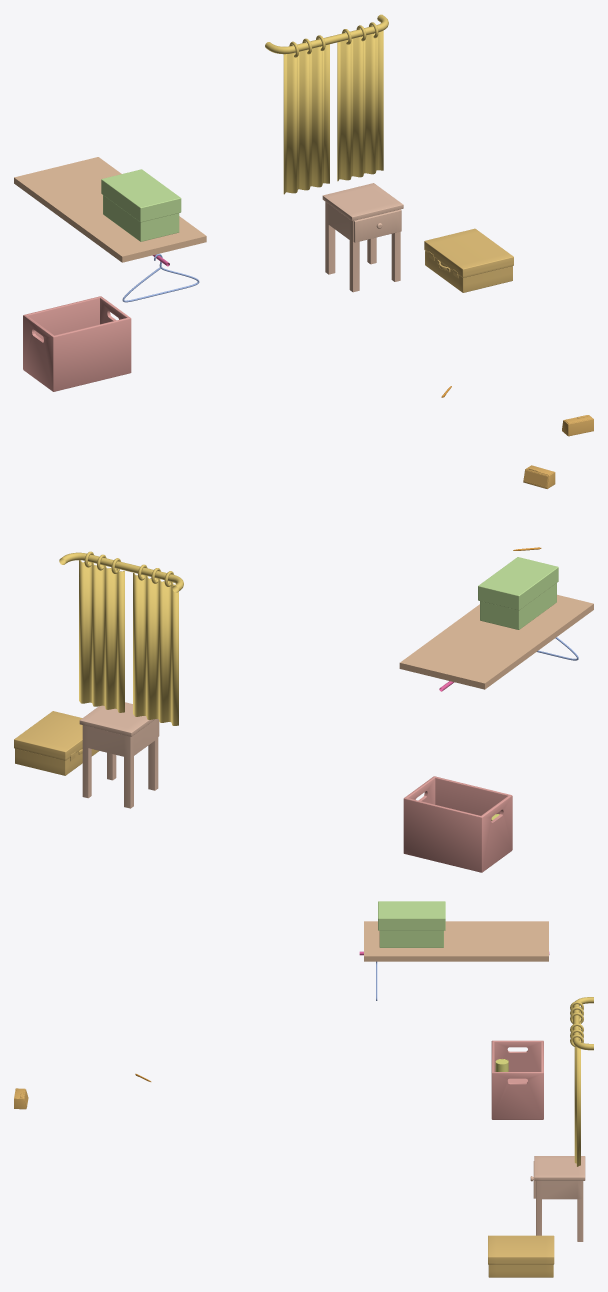
File: stuff2ss.fbx
3 views of the same model, one above another, from view 1: azimuth 30°, elevation 25°; view 2: azimuth 150°, elevation 25°; view 3: azimuth 270°, elevation 25° (orthographic). The views are drawn at different scales.
Parts seen in each view (by area): view 1: Plane.006, Cube.015, Cube.021, Cube.005, Cube.020, Cube.004; view 2: Plane.006, Cube.015, Cube.021, Cube.005, Cube.020, Cube.004, Cube.022; view 3: Cube.021, Cube.015, Cube.020, Cube.004, Cube.005, Plane.006.
Part boxes in pixels (x1,y1,x2,y2): Plane.006: (265, 14, 388, 194); Cube.015: (23, 296, 131, 391); Cube.021: (14, 157, 206, 262); Cube.005: (322, 183, 403, 292); Cube.020: (101, 169, 181, 241); Cube.004: (424, 228, 513, 292); Plane.006: (59, 551, 183, 725); Cube.015: (403, 776, 512, 872); Cube.021: (399, 594, 593, 689); Cube.005: (79, 702, 159, 808); Cube.020: (478, 557, 558, 629); Cube.004: (14, 711, 98, 775); Cube.022: (523, 465, 555, 488); Cube.021: (364, 921, 548, 961); Cube.015: (491, 1040, 543, 1119); Cube.020: (378, 901, 445, 947); Cube.004: (488, 1235, 554, 1277); Cube.005: (530, 1156, 585, 1241); Plane.006: (570, 997, 593, 1166).
Size of the model in its own units: 686 by 342 by 868.
